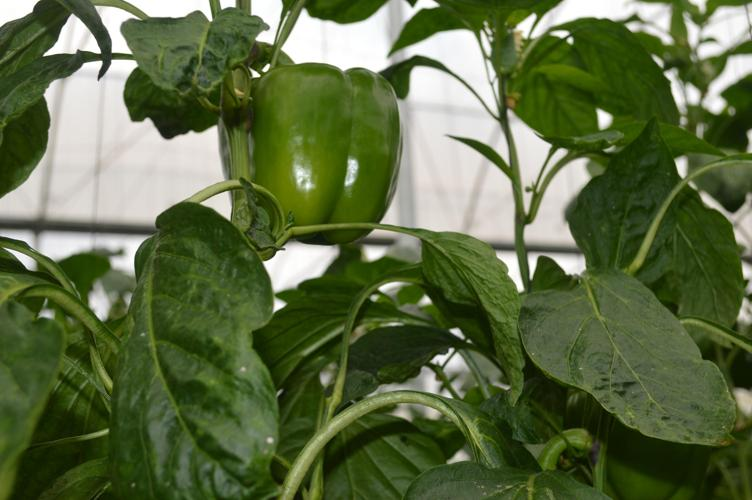BellPepper: (248, 62, 398, 231)
